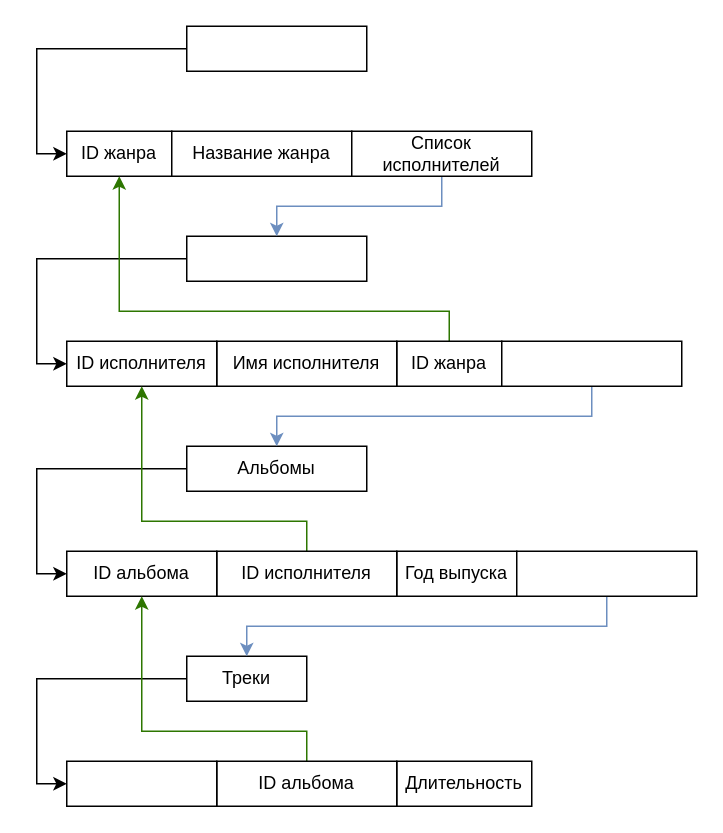
Image size: 723x833. Some labels were removed from this diagram. Here are the shapes that lost their labels. From the top down, the centre of each, then its label:
At point (276, 48): "Музыкальный жанр".
At point (276, 258): "Исполнители".
At point (591, 363): "Список альбомов".
At point (606, 573): "Список треков".
At point (141, 783): "ID трека".
